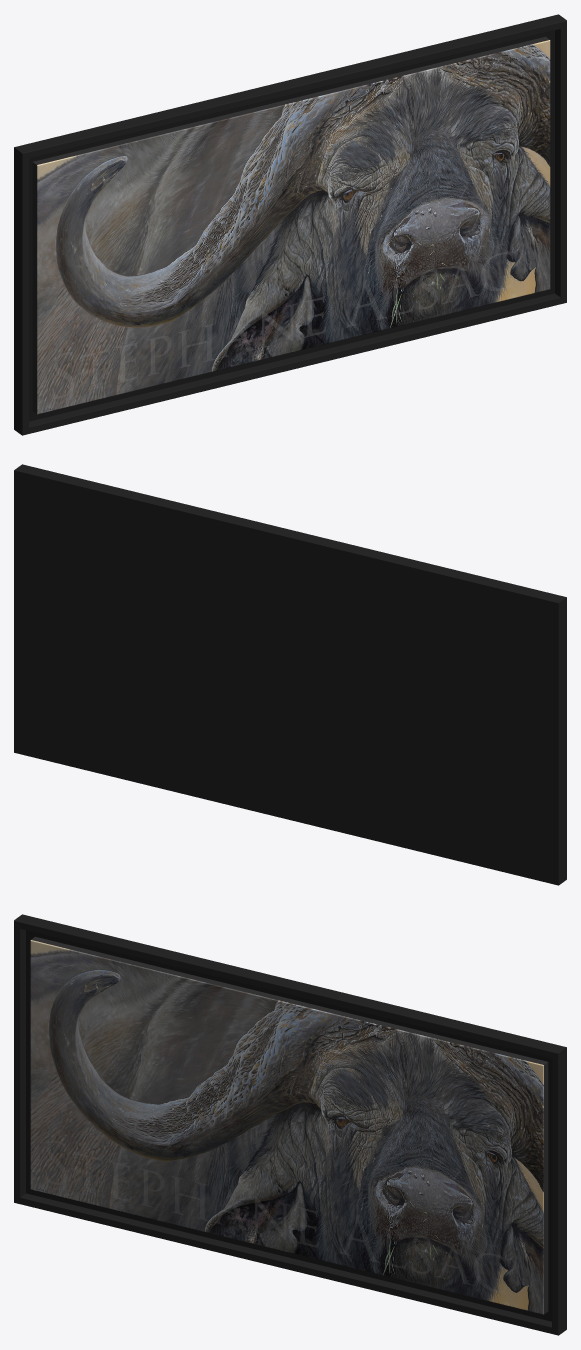
Rendered from tableau-vieux-buffle-grand-6876a5f3.glb.
3 renders of one model, top to bottom at view 1: azimuth 30°, elevation 25°; view 2: azimuth 150°, elevation 25°; view 3: azimuth 330°, elevation 25°, orthographic.
Parts seen in each view (by area): view 1: Painting; view 2: Painting; view 3: Painting.
Part boxes in pixels (x1,y1,x2,y2): Painting: [14, 14, 566, 435]; Painting: [14, 464, 566, 885]; Painting: [14, 914, 566, 1335].
Bounding box in the file's own units: 1.49 × 0.736 × 0.04.
4 materials, 2 textured.
